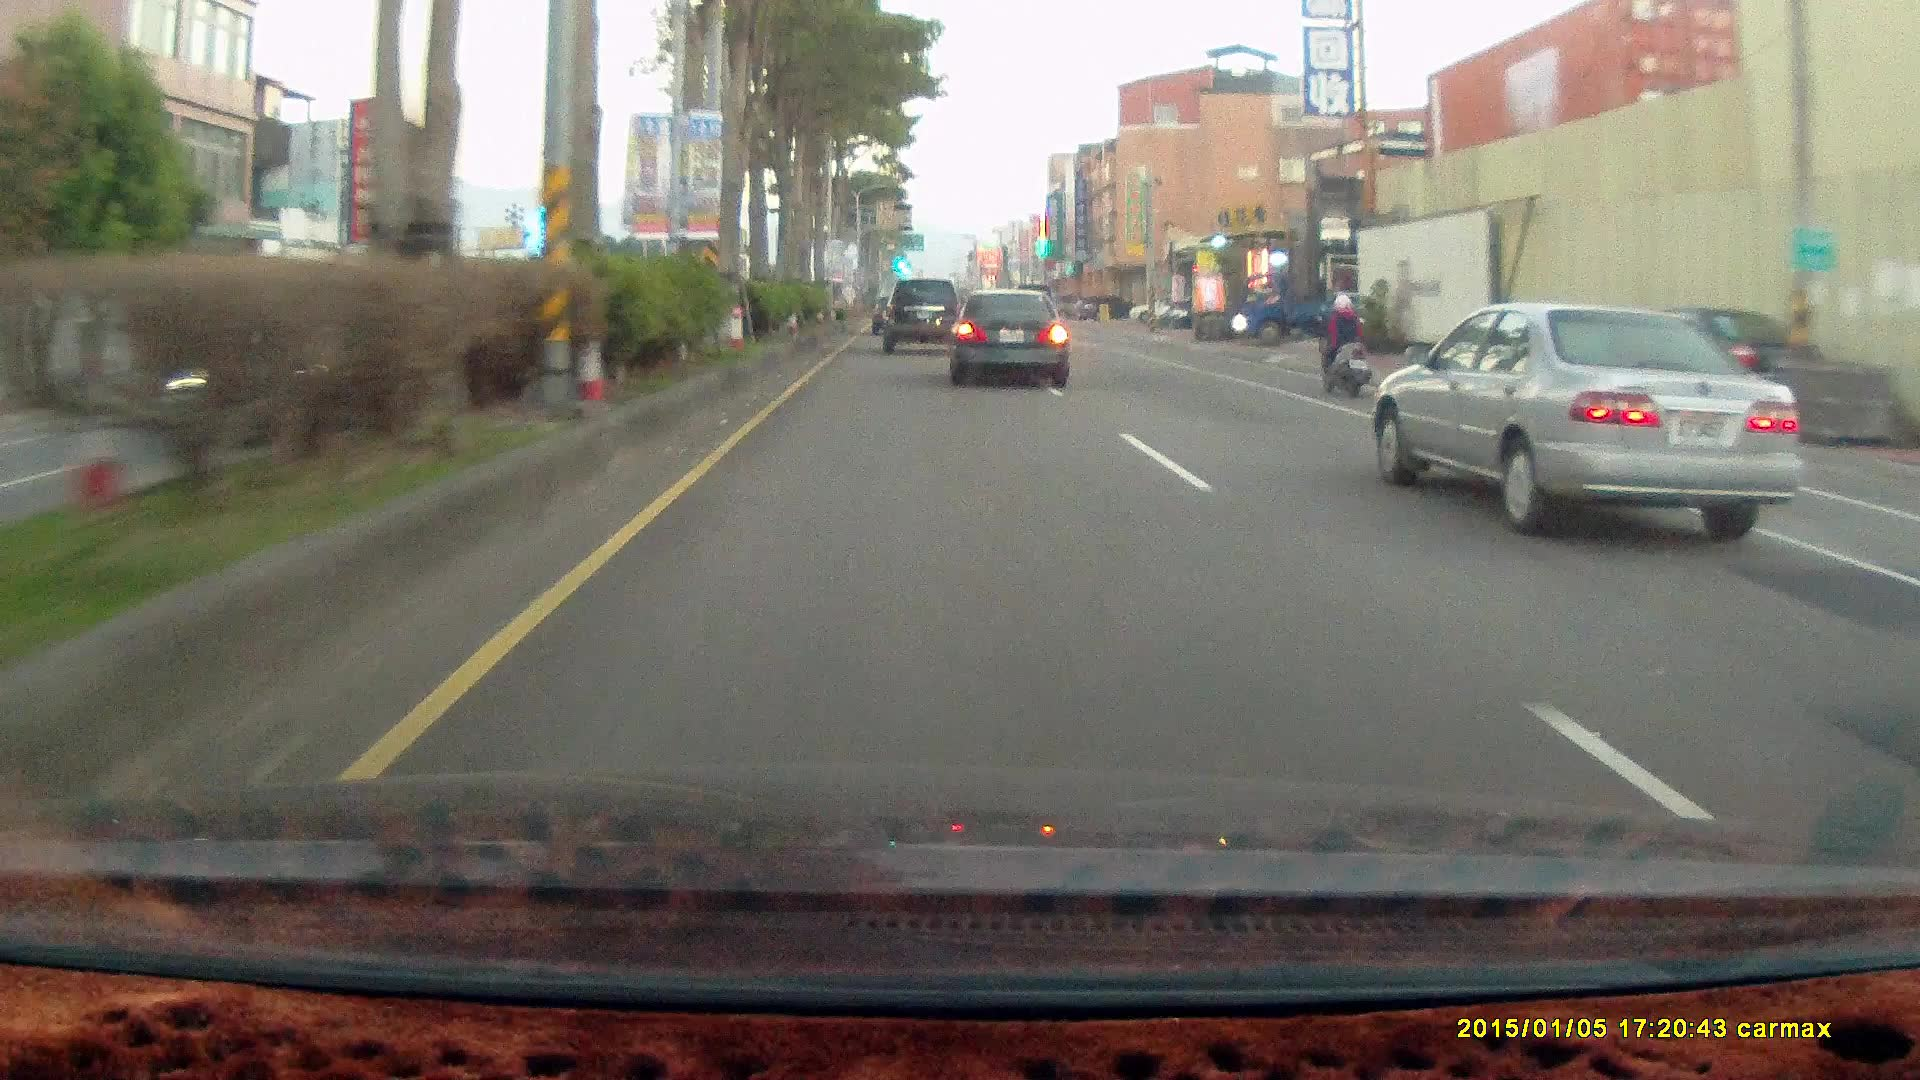rider: (1306, 283, 1384, 407), (1315, 290, 1375, 402)
vehicle: (1369, 299, 1800, 543), (1379, 299, 1808, 535), (946, 288, 1069, 389), (950, 292, 1075, 391), (1230, 272, 1373, 345), (1230, 266, 1368, 342), (878, 282, 961, 353), (883, 278, 961, 351), (1075, 296, 1133, 320), (1125, 296, 1183, 321)
